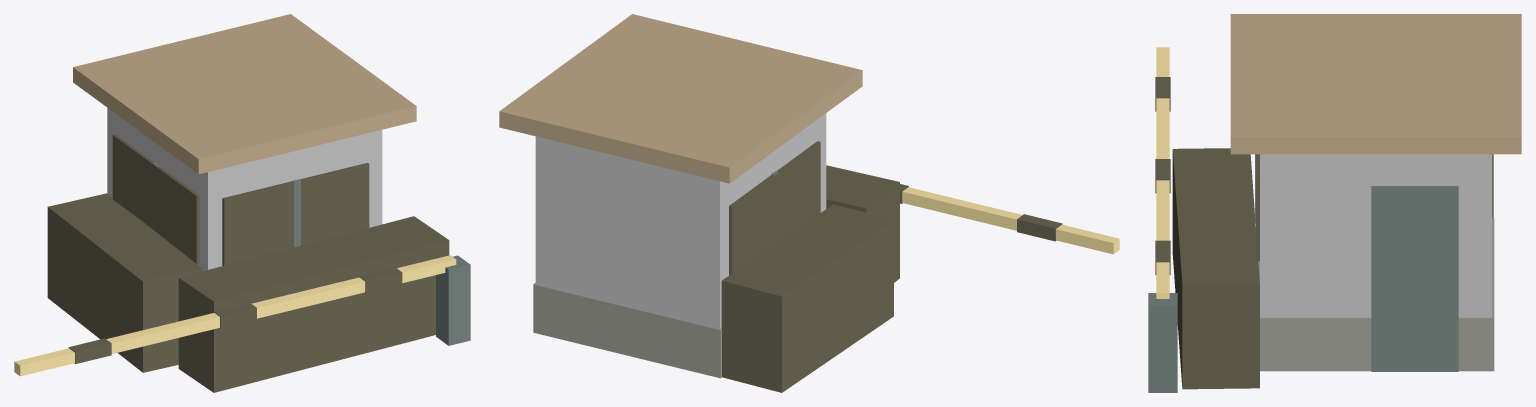
The model's file is SM_Garita_v2_LOD0.fbx.
3 renders of one model, left to right at view 1: azimuth 30°, elevation 25°; view 2: azimuth 150°, elevation 25°; view 3: azimuth 270°, elevation 25°, orthographic. The views are drawn at different scales.
Visible parts, largest first — view 1: SM_garita_v2_LOD0, Barrera; view 2: SM_garita_v2_LOD0, Barrera; view 3: SM_garita_v2_LOD0, Barrera.
Boxes of the visible parts, bbox=[...] form: SM_garita_v2_LOD0: bbox=[47, 14, 470, 392]; Barrera: bbox=[14, 255, 456, 376]; SM_garita_v2_LOD0: bbox=[499, 14, 899, 392]; Barrera: bbox=[900, 184, 1119, 254]; SM_garita_v2_LOD0: bbox=[1148, 14, 1521, 392]; Barrera: bbox=[1155, 47, 1170, 298].
Size of the model in its own units: 6.15 by 2.8 by 3.85.
